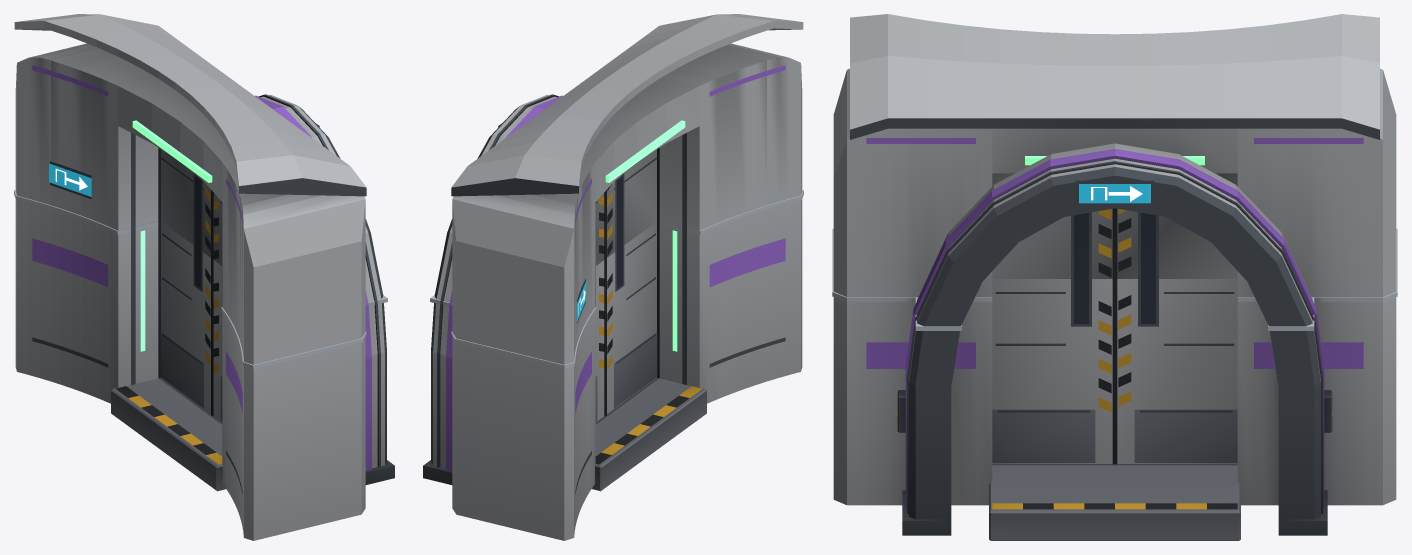
Rendered from doorway_r400.glb.
3 renders of one model, left to right at view 1: azimuth 30°, elevation 25°; view 2: azimuth 150°, elevation 25°; view 3: azimuth 270°, elevation 25°, orthographic. The views are drawn at different scales.
Visible parts, largest first — view 1: FrameTop, Frame, DoorR, DoorRTop, DoorL, FrameCap, Sign, Status, DoorLTop, Lights; view 2: FrameTop, Frame, DoorL, DoorLTop, DoorR, FrameCap, Status, DoorRTop, Lights; view 3: FrameTop, Frame, DoorL, DoorR, DoorLTop, DoorRTop, Sign, FrameCap.
Boxes of the visible parts, left/top/right/bottom form: FrameTop: left=14, top=14, right=383, bottom=364; Frame: left=15, top=199, right=394, bottom=540; DoorR: left=160, top=221, right=211, bottom=415; DoorRTop: left=160, top=149, right=211, bottom=258; DoorL: left=212, top=260, right=222, bottom=422; FrameCap: left=14, top=190, right=387, bottom=368; Sign: left=49, top=123, right=319, bottom=199; Status: left=132, top=120, right=212, bottom=182; DoorLTop: left=212, top=191, right=222, bottom=265; Lights: left=140, top=230, right=145, bottom=351; FrameTop: left=434, top=14, right=803, bottom=364; Frame: left=423, top=199, right=802, bottom=540; DoorL: left=606, top=221, right=657, bottom=415; DoorLTop: left=606, top=149, right=657, bottom=258; DoorR: left=595, top=260, right=605, bottom=422; FrameCap: left=430, top=190, right=803, bottom=368; Status: left=605, top=120, right=685, bottom=182; DoorRTop: left=595, top=191, right=605, bottom=265; Lights: left=672, top=230, right=677, bottom=351; FrameTop: left=833, top=14, right=1396, bottom=326; Frame: left=833, top=297, right=1396, bottom=540; DoorL: left=992, top=279, right=1114, bottom=464; DoorR: left=1115, top=279, right=1237, bottom=464; DoorLTop: left=992, top=173, right=1114, bottom=279; DoorRTop: left=1115, top=173, right=1237, bottom=279; Sign: left=1075, top=180, right=1154, bottom=206; FrameCap: left=832, top=228, right=1397, bottom=330.
Size of the model in its own units: 1.49 by 2.93 by 3.46.
